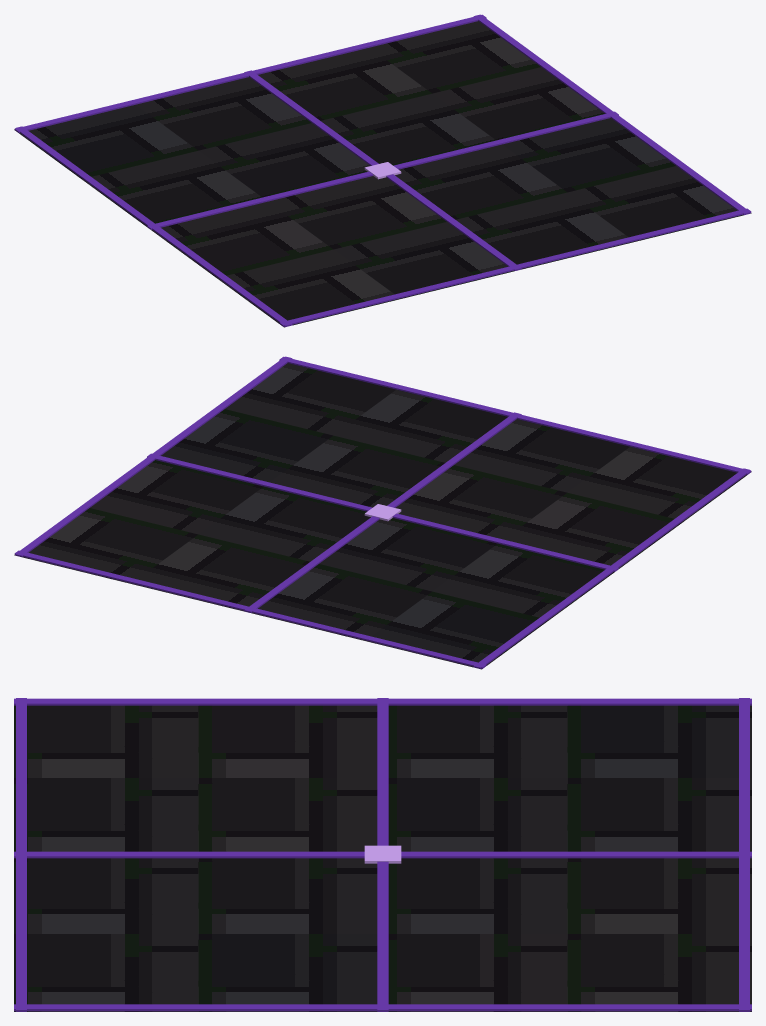
Rendered from vault_floor.glb.
3 renders of one model, top to bottom at view 1: azimuth 30°, elevation 25°; view 2: azimuth 150°, elevation 25°; view 3: azimuth 270°, elevation 25°, orthographic. The views are drawn at different scales.
Parts seen in each view (by area): view 1: vault_floor; view 2: vault_floor; view 3: vault_floor.
Part boxes in pixels (x1,y1,x2,y2): vault_floor: (14,14,751,327); vault_floor: (14,356,751,669); vault_floor: (14,698,751,1011).
Size of the model in its own units: 2 by 0.008 by 2.
2 materials, 1 textured.
